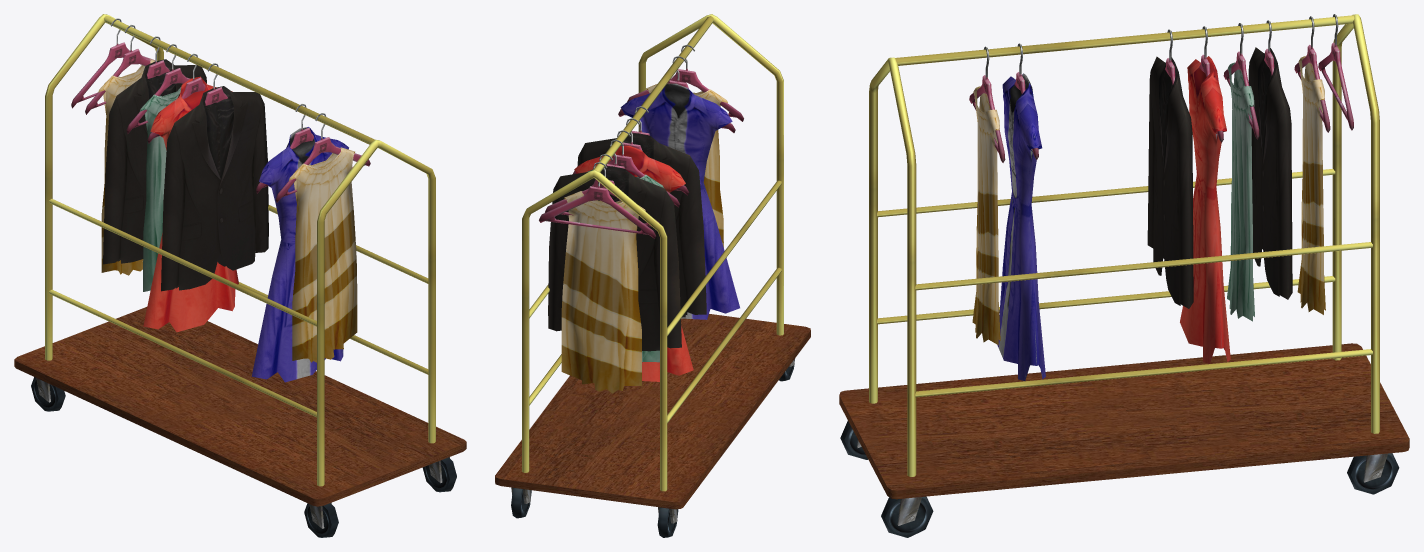
The model's file is obst_dressCarrier_anim.fbx.
The picture shows the model from 3 angles, left to right: view 1: azimuth 30°, elevation 25°; view 2: azimuth 150°, elevation 25°; view 3: azimuth 270°, elevation 25°; orthographic projection. The views are drawn at different scales.
Parts seen in each view (by area): view 1: obst_dressCarrier_animated; view 2: obst_dressCarrier_animated; view 3: obst_dressCarrier_animated.
Boxes of the visible parts, box(x1,y1,x2,y2) form: obst_dressCarrier_animated: box(14, 14, 466, 537); obst_dressCarrier_animated: box(495, 14, 810, 537); obst_dressCarrier_animated: box(839, 14, 1409, 537).
Bounding box in the file's own units: 119 × 166 × 194.
